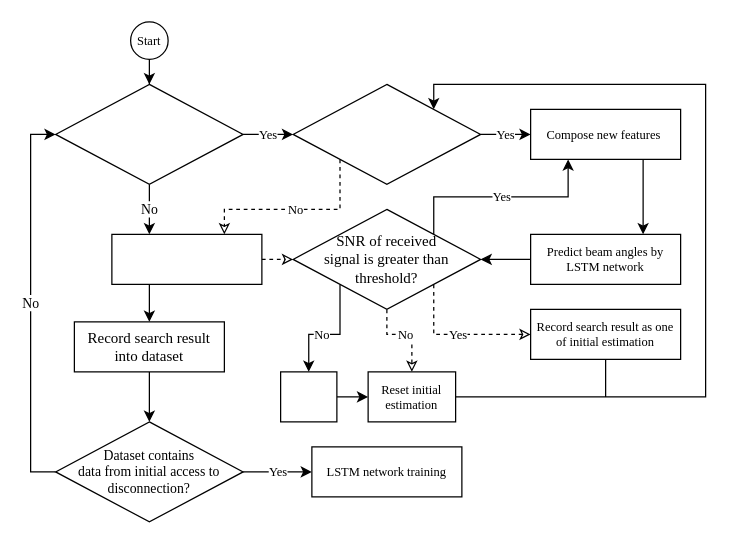
This 738x544 diagram has some shape labels left out. The centre of each missing label's shape, as x and y in pixels:
"Exhaustive beam search" belongs at pixel 186 258.
"Initial estimation is completed?" belongs at pixel 386 133.
"LSTM network training is completed?" belongs at pixel 148 133.
"Reset feature" belongs at pixel 308 396.
